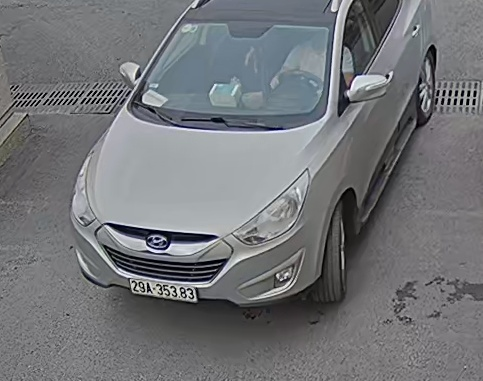vehicle plate: (128, 273, 207, 301)
